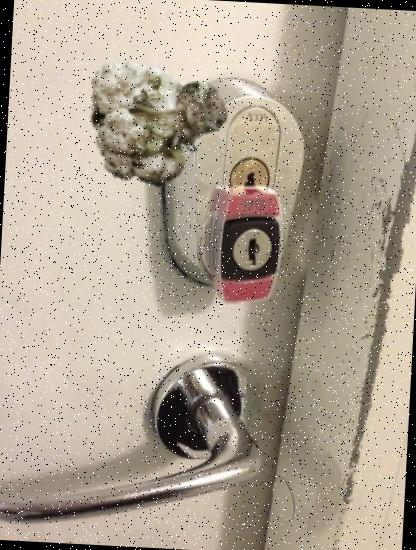Cauliflower: (86, 45, 234, 192)
